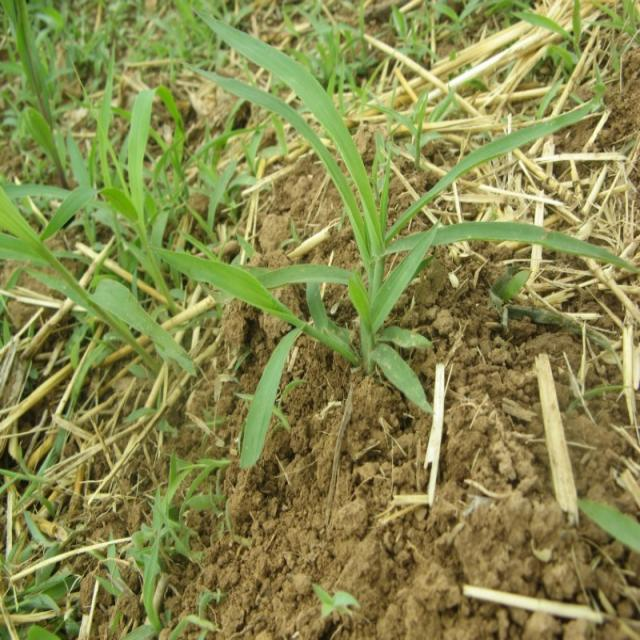bg: (167, 19, 624, 459)
